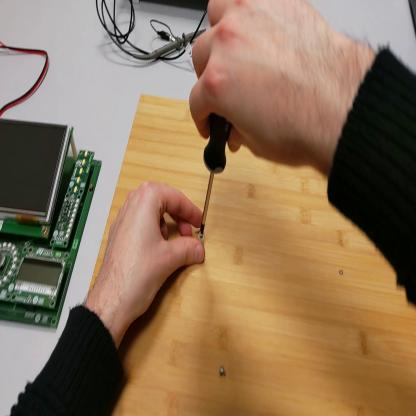hand: (187, 2, 341, 170), (103, 181, 207, 323)
low voltage board: (1, 116, 103, 329)
oscilloscope probe tip: (134, 25, 204, 62)
screwdriver-: (199, 119, 233, 239)
welder station: (409, 1, 416, 35)
working area: (69, 97, 416, 415)
